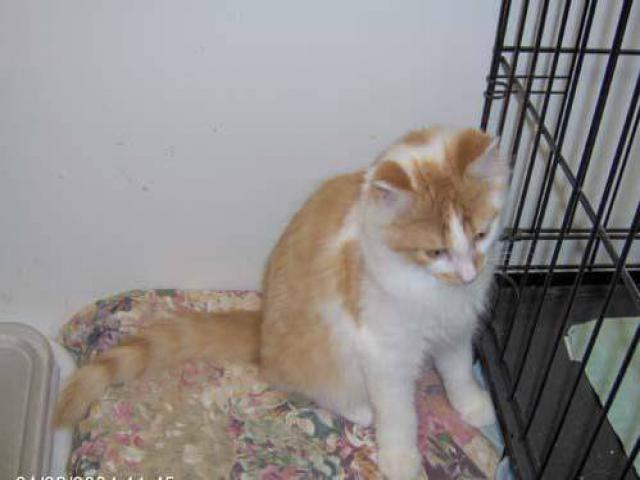cat: (59, 121, 521, 477)
